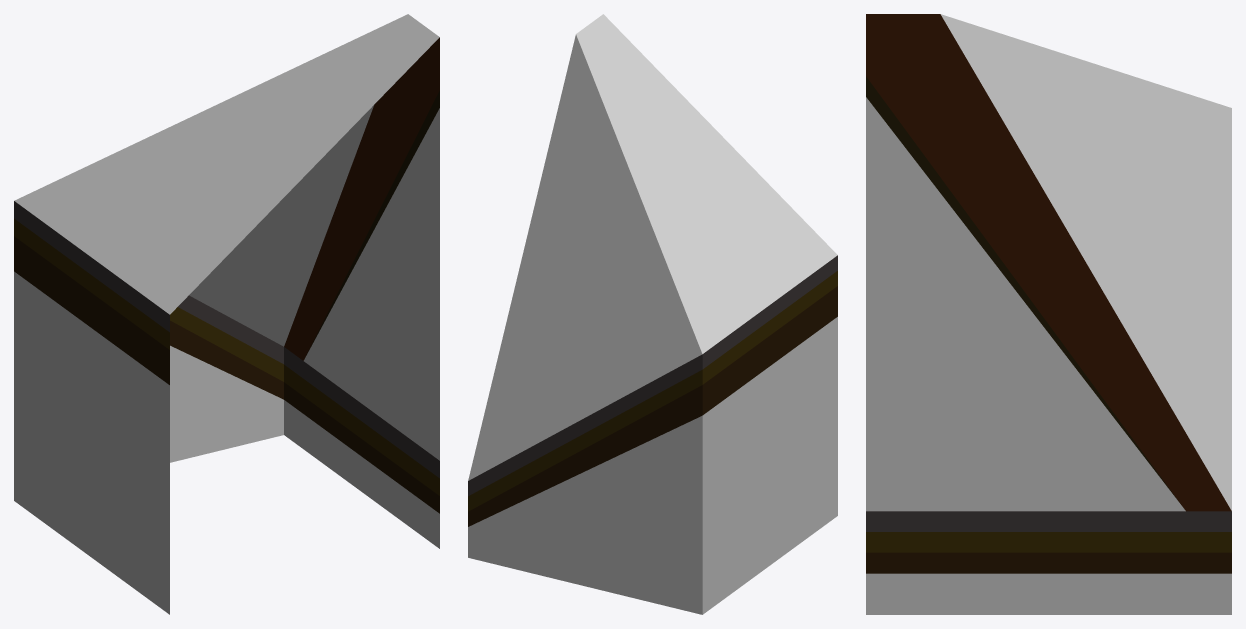
File: model_loc_1777_a.obj
3 views of the same model, side by side, from view 1: azimuth 30°, elevation 25°; view 2: azimuth 150°, elevation 25°; view 3: azimuth 270°, elevation 25° (orthographic). The views are drawn at different scales.
Parts seen in each view (by area): view 1: 1384; view 2: 1384; view 3: 1384.
Boxes of the visible parts, x1,y1,x2,y2 form: 1384: (14, 14, 439, 614); 1384: (468, 14, 837, 614); 1384: (866, 14, 1231, 614).
Bounding box in the file's own units: 128 × 232 × 128.
